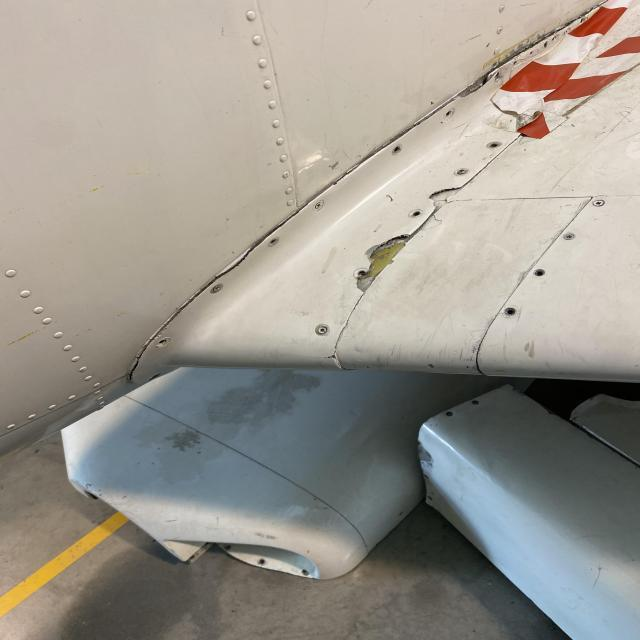Fastener Damage: (533, 267, 546, 278), (503, 306, 517, 316), (157, 338, 169, 348), (268, 237, 280, 247), (410, 208, 422, 218), (444, 108, 456, 118), (391, 146, 404, 154), (488, 141, 501, 149)
Rupture: (400, 70, 496, 128), (351, 230, 419, 296), (205, 234, 263, 278), (115, 335, 147, 387), (425, 183, 473, 213), (307, 354, 354, 369)
